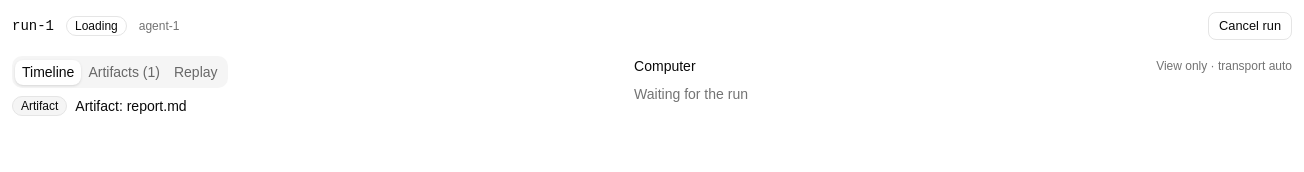
Test case: RunScreen › lists artifacts with a download link when the service signed one
The image size is (1304, 172).
Click the tab "Artifacts (1)". click: click(124, 72)
box: x1=81 y1=60 x2=167 y2=84
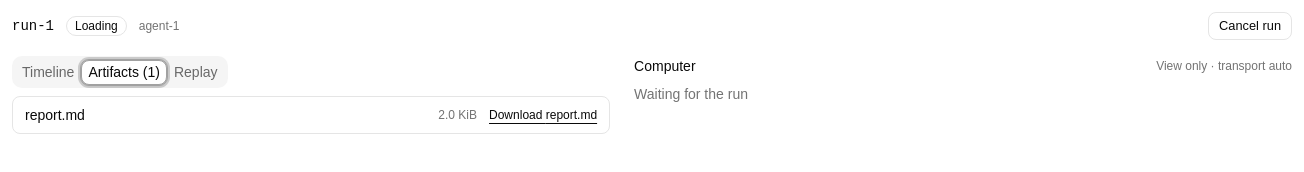
Now the text "2.0 KiB" is shown, box x1=438 y1=107 x2=477 y2=123
